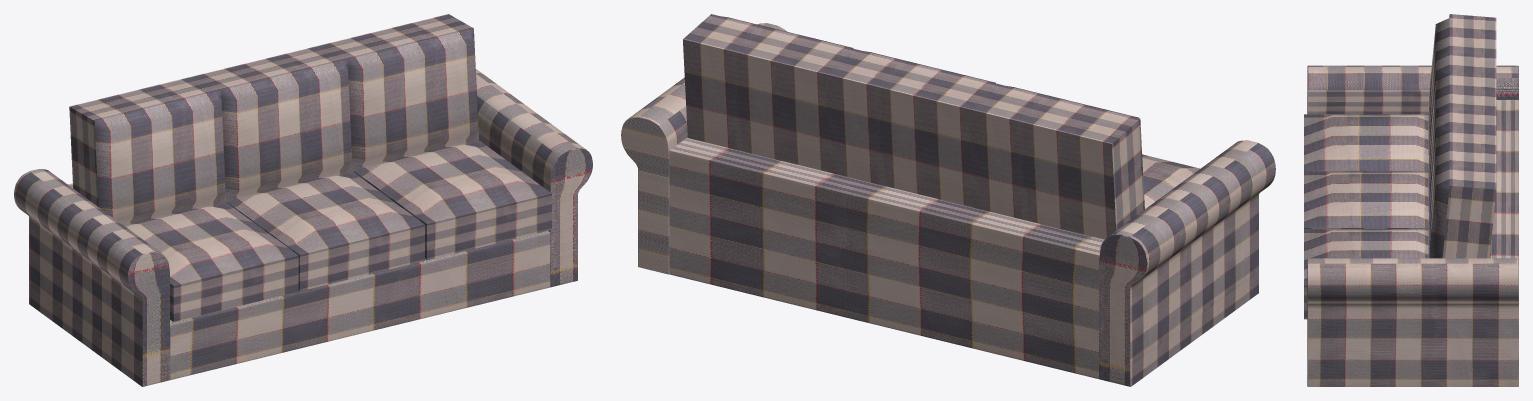
The model's file is sofa.fbx.
The picture shows the model from 3 angles, left to right: view 1: azimuth 30°, elevation 25°; view 2: azimuth 150°, elevation 25°; view 3: azimuth 270°, elevation 25°; orthographic projection. The views are drawn at different scales.
Parts seen in each view (by area): view 1: sofa_pCube2, pCube8, pCube6, pCube7, pCube5, pCube4, pCube3; view 2: sofa_pCube2, pCube8, pCube6, pCube7, pCube3; view 3: sofa_pCube2, pCube7, pCube4, pCube3, pCube8, pCube6, pCube5.
Boxes of the visible parts, left/top/right/bottom form: sofa_pCube2: left=14, top=69, right=592, bottom=386; pCube8: left=69, top=75, right=226, bottom=225; pCube6: left=196, top=45, right=352, bottom=202; pCube7: left=323, top=14, right=478, bottom=172; pCube5: left=354, top=140, right=551, bottom=260; pCube4: left=227, top=171, right=424, bottom=291; pCube3: left=124, top=202, right=298, bottom=321; sofa_pCube2: left=621, top=23, right=1275, bottom=386; pCube8: left=968, top=83, right=1144, bottom=239; pCube6: left=825, top=49, right=996, bottom=207; pCube7: left=683, top=14, right=853, bottom=172; pCube3: left=1142, top=154, right=1199, bottom=208; sofa_pCube2: left=1307, top=65, right=1518, bottom=386; pCube7: left=1428, top=128, right=1496, bottom=258; pCube4: left=1304, top=171, right=1428, bottom=228; pCube3: left=1304, top=114, right=1428, bottom=171; pCube8: left=1428, top=14, right=1496, bottom=154; pCube6: left=1428, top=71, right=1496, bottom=211; pCube5: left=1304, top=229, right=1428, bottom=319.
Bounding box in the file's own units: 2.36 × 0.9837 × 1.02.
Materials: 1 (1 with a texture image).
